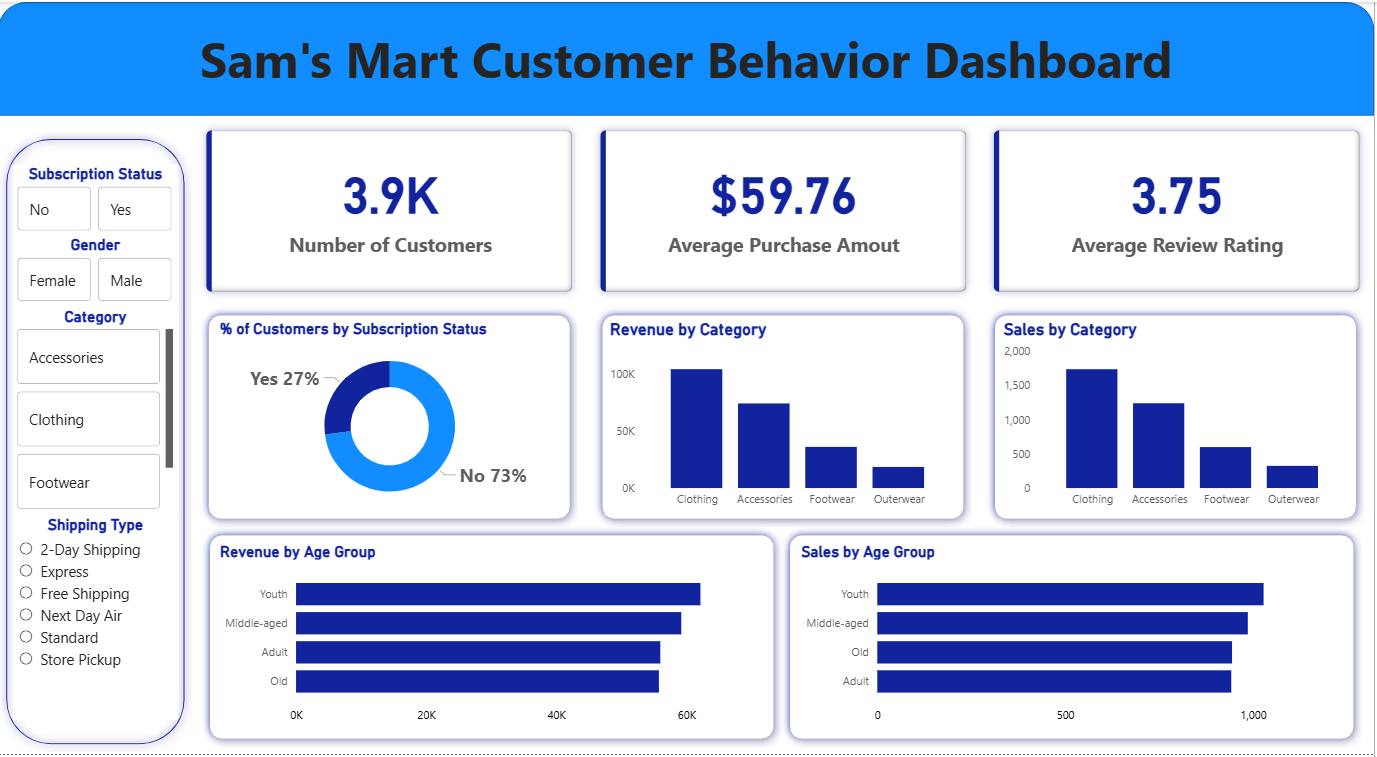

What the dashboard file says about the page in this screenshot:
{"tool":"powerbi","page":{"name":"Page 1","canvas":[1500,820],"ordinal":0},"visuals":[{"type":"cardVisual","fields":{"Data":["customer.Number of Customers","customer.Average Purchase Amout","customer.Average Review Rating"]},"box":[211.2,124,1289.1,208.5],"z":0},{"type":"shape","box":[0,0,1500.3,124],"z":1000},{"type":"textbox","box":[0,20.4,1500.3,103.6],"z":2000},{"type":"shape","box":[220.7,332.5,411.5,239.8],"z":3000},{"type":"donutChart","title":"% of Customers by Subscription Status","fields":{"Category":["customer.subscription_status"],"Y":["CountNonNull(customer.customer_id)"]},"box":[237.1,346.1,380.2,213.9],"z":4000},{"type":"shape","box":[649.3,332.5,411.5,239.8],"z":5000},{"type":"shape","box":[1077.9,332.5,411.5,239.8],"z":6000},{"type":"clusteredColumnChart","title":"Revenue by Category","fields":{"Y":["Sum(customer.purchase_amount)"],"Category":["customer.category"]},"box":[662.2,346.1,384.3,213.9],"z":7000},{"type":"clusteredColumnChart","title":"Sales by Category","fields":{"Y":["CountNonNull(customer.customer_id)"],"Category":["customer.category"]},"box":[1091.5,346.1,384.3,213.9],"z":8000},{"type":"shape","box":[0,134.9,212.6,682.7],"z":9000},{"type":"advancedSlicerVisual","fields":{"Values":["customer.subscription_status"]},"box":[16.4,169,179.9,85.8],"z":10000},{"type":"advancedSlicerVisual","fields":{"Values":["customer.gender"]},"box":[16.4,254.8,179.9,76.3],"z":11000},{"type":"advancedSlicerVisual","fields":{"Values":["customer.category"]},"box":[16.4,332.5,179.9,226.2],"z":12000},{"type":"listSlicer","fields":{"Values":["customer.shipping_type"]},"box":[16.4,560,179.9,222.1],"z":13000},{"type":"shape","box":[222.1,572.3,632.3,239.8],"z":14000},{"type":"clusteredBarChart","title":"Revenue by Age Group","fields":{"Y":["Sum(customer.purchase_amount)"],"Category":["customer.age_group"]},"box":[237.1,588.7,599.6,207.1],"z":15000},{"type":"shape","box":[854.4,572.3,632.3,239.8],"z":16000},{"type":"clusteredBarChart","title":"Sales by Age Group","fields":{"Y":["CountNonNull(customer.customer_id)"],"Category":["customer.age_group"]},"box":[870.7,588.7,599.6,207.1],"z":17000}]}

Visuals, with their boxes in screenshot pixels (x1, y1, x2, y2), scaled from the page's 1500x820 canvas onto the 1377x757 screenshot:
cardVisual - customer.Number of Customers x customer.Average Purchase Amout: rect(194, 114, 1376, 307)
shape: rect(0, 0, 1376, 114)
textbox: rect(0, 19, 1376, 114)
shape: rect(203, 307, 580, 528)
"% of Customers by Subscription Status" donutChart: rect(218, 320, 567, 517)
shape: rect(596, 307, 974, 528)
shape: rect(990, 307, 1367, 528)
"Revenue by Category" clusteredColumnChart: rect(608, 320, 961, 517)
"Sales by Category" clusteredColumnChart: rect(1002, 320, 1355, 517)
shape: rect(0, 125, 195, 755)
advancedSlicerVisual - customer.subscription_status: rect(15, 156, 180, 235)
advancedSlicerVisual - customer.gender: rect(15, 235, 180, 306)
advancedSlicerVisual - customer.category: rect(15, 307, 180, 516)
listSlicer - customer.shipping_type: rect(15, 517, 180, 722)
shape: rect(204, 528, 784, 750)
"Revenue by Age Group" clusteredBarChart: rect(218, 543, 768, 735)
shape: rect(784, 528, 1365, 750)
"Sales by Age Group" clusteredBarChart: rect(799, 543, 1350, 735)
